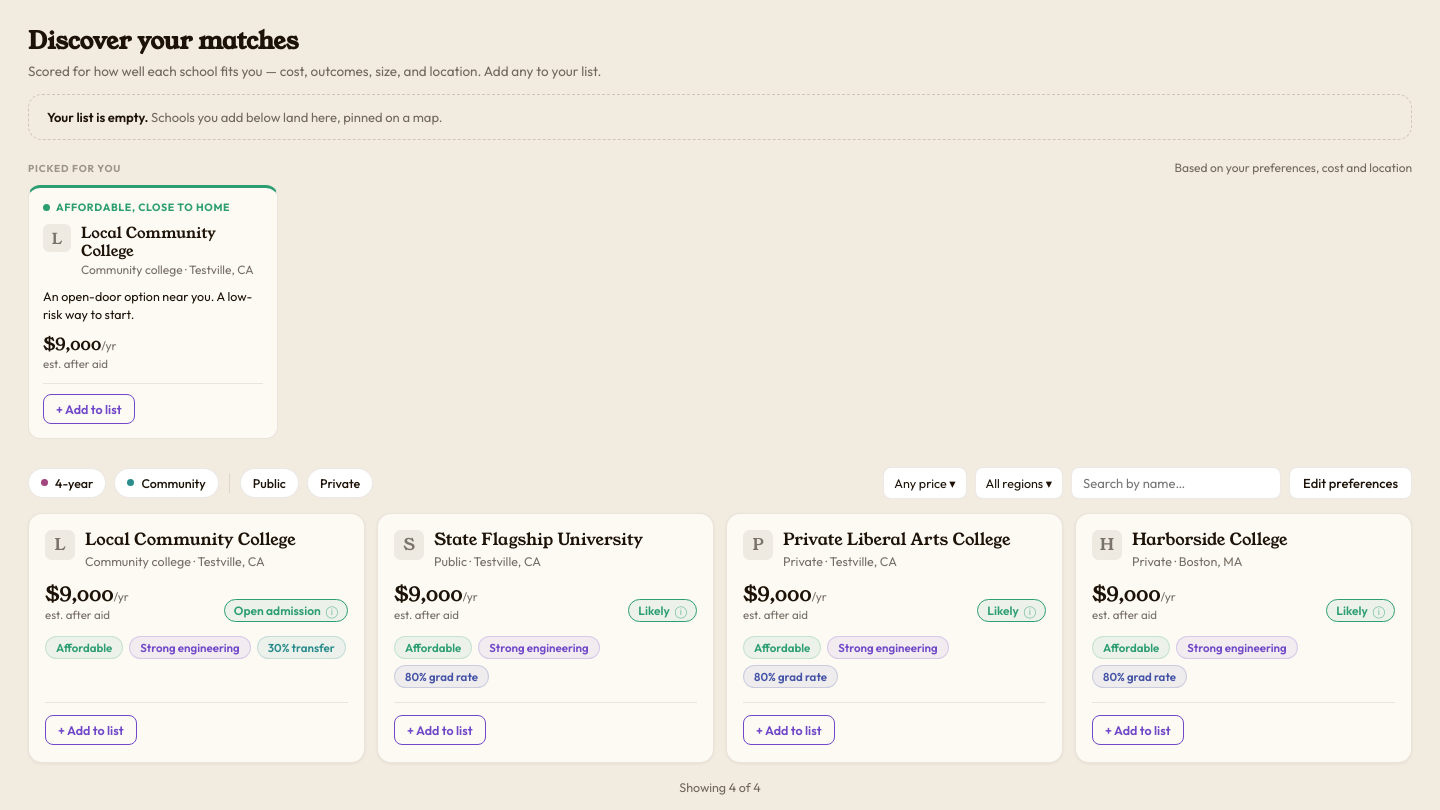
Test: CollegeDiscoverTab › opens the preferences form from "Edit preferences"
Click the button "Edit preferences": (1351, 483) [1289,467,1412,499]
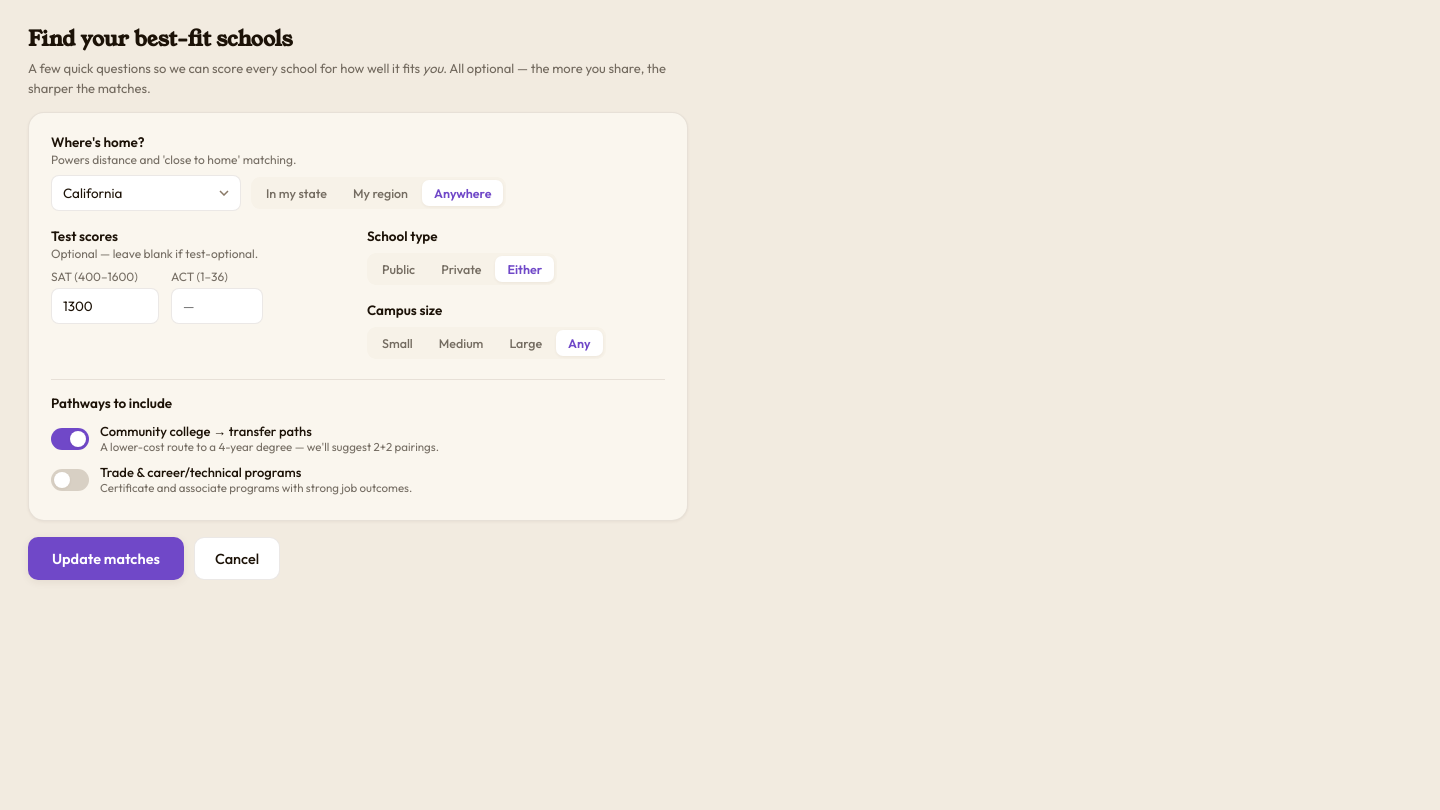
Expected: the heading "Find your best-fit schools" is shown, [28,24,293,54]
